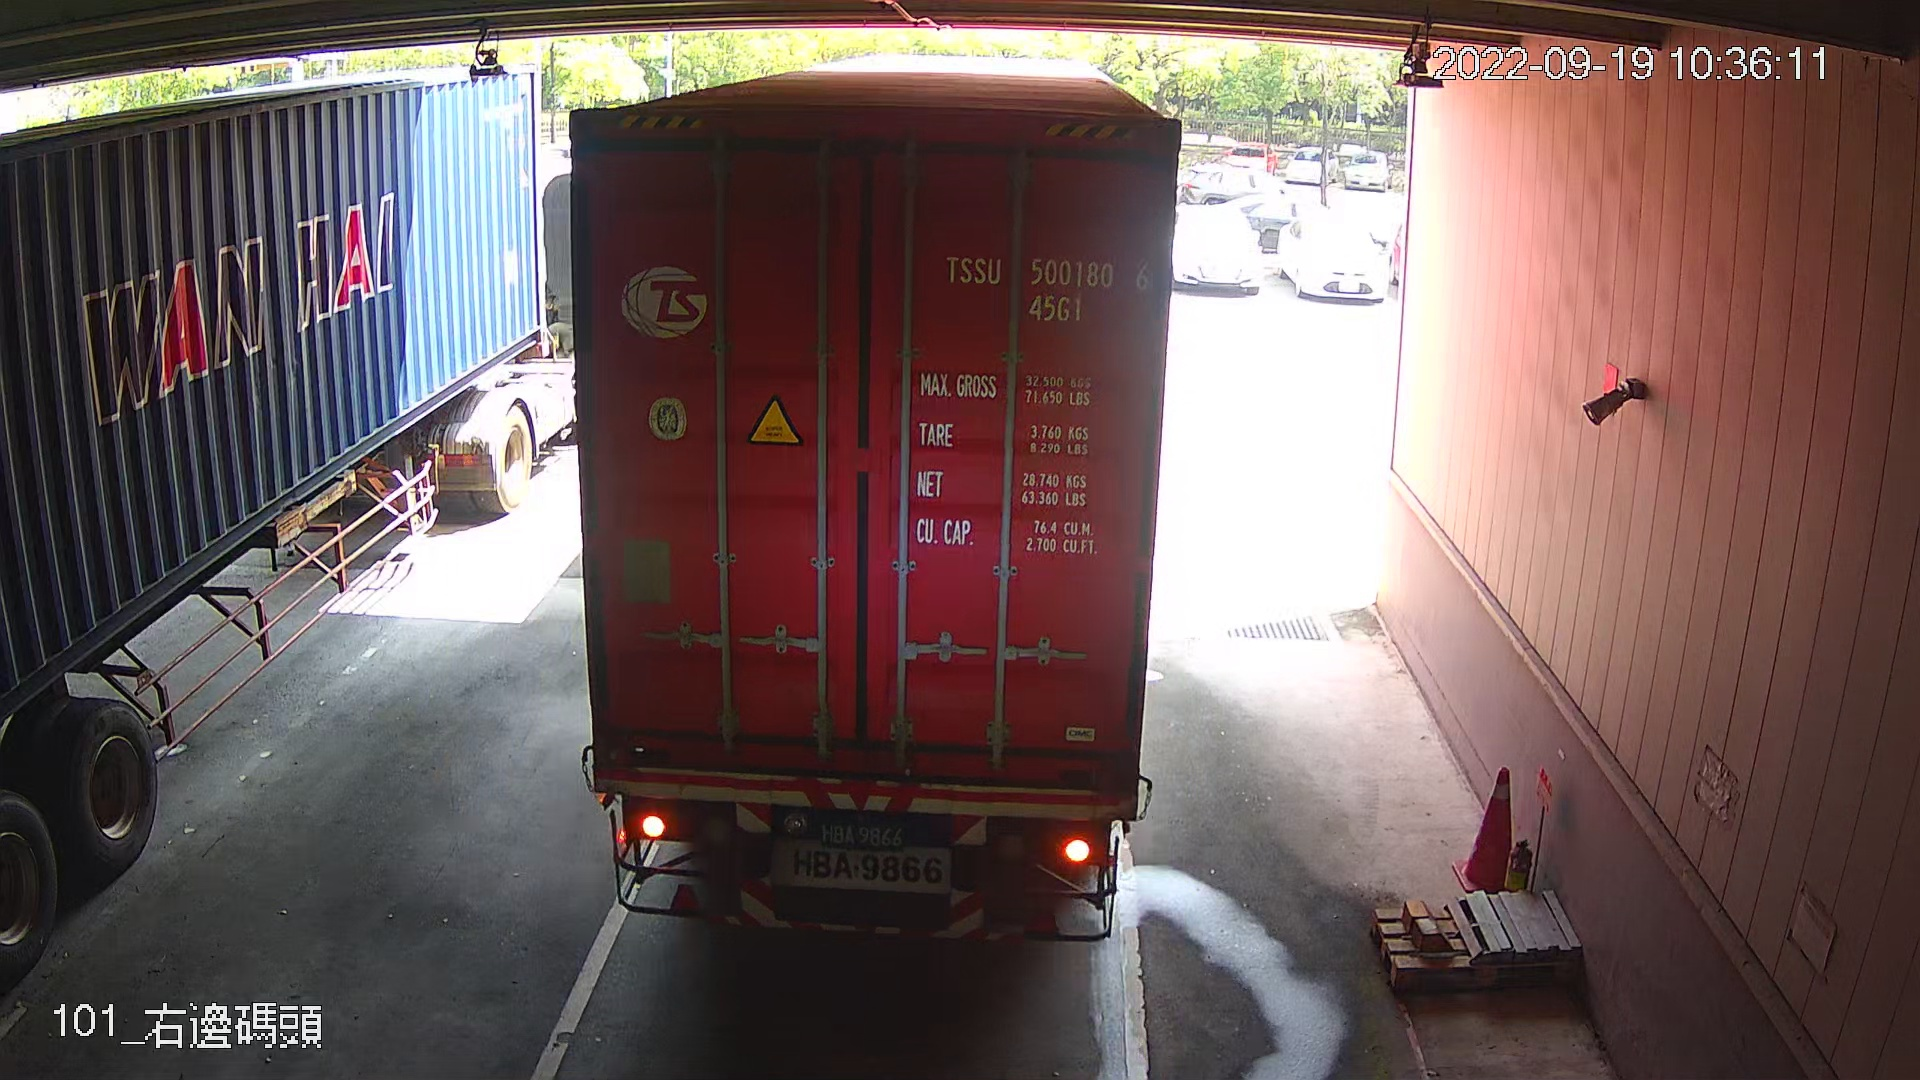container: (932, 247, 1156, 336)
